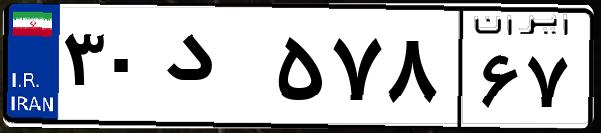0: (110, 28, 158, 98)
3: (57, 26, 110, 100)
5: (270, 28, 330, 110)
6: (475, 38, 525, 113)
7: (330, 28, 385, 110), (525, 38, 570, 115)
8: (385, 28, 445, 110)
د: (158, 20, 270, 120)
